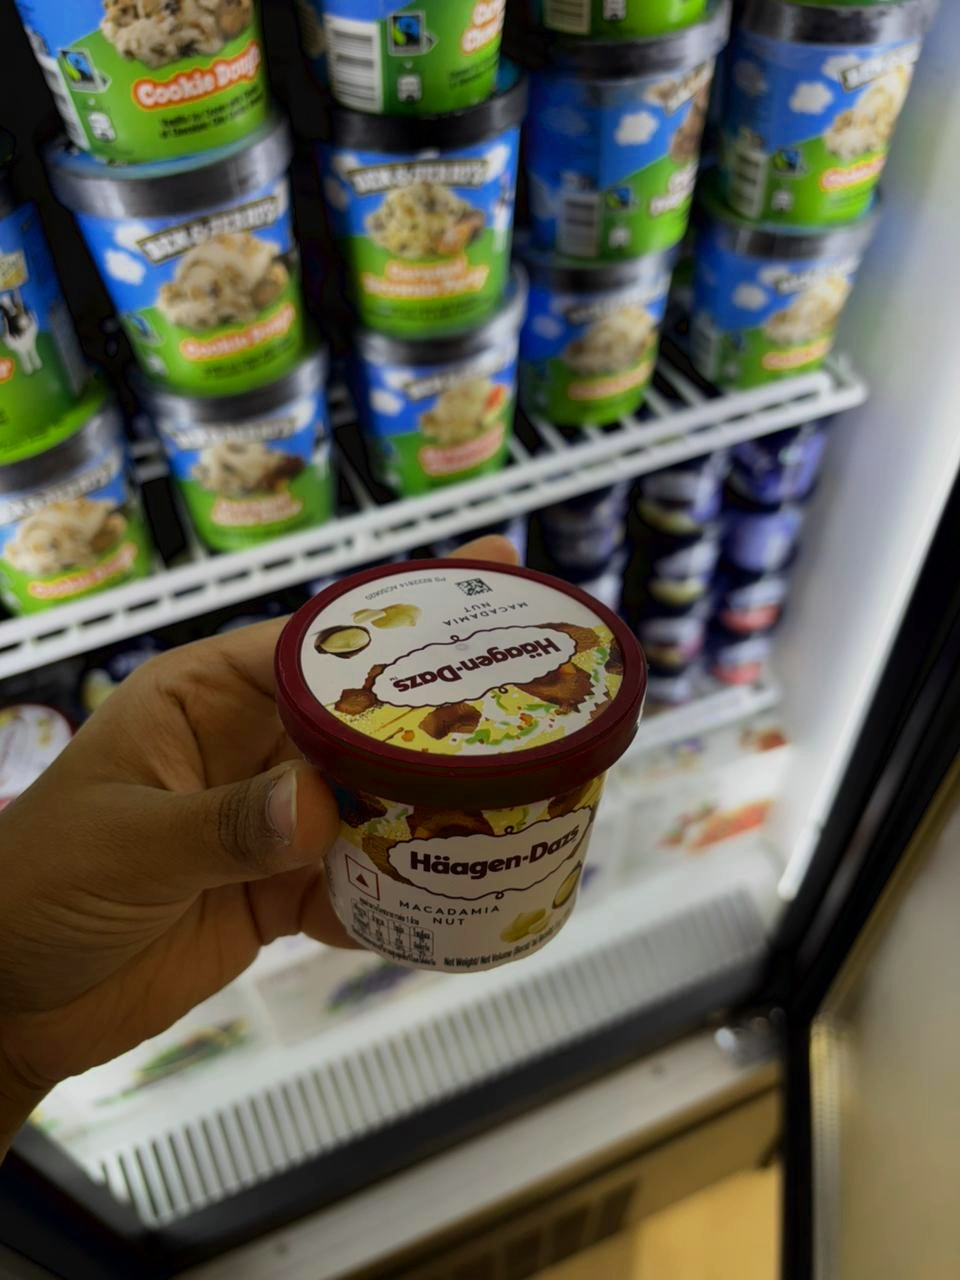Haagen-Dazs IceCream Tub: (263, 553, 652, 998)
